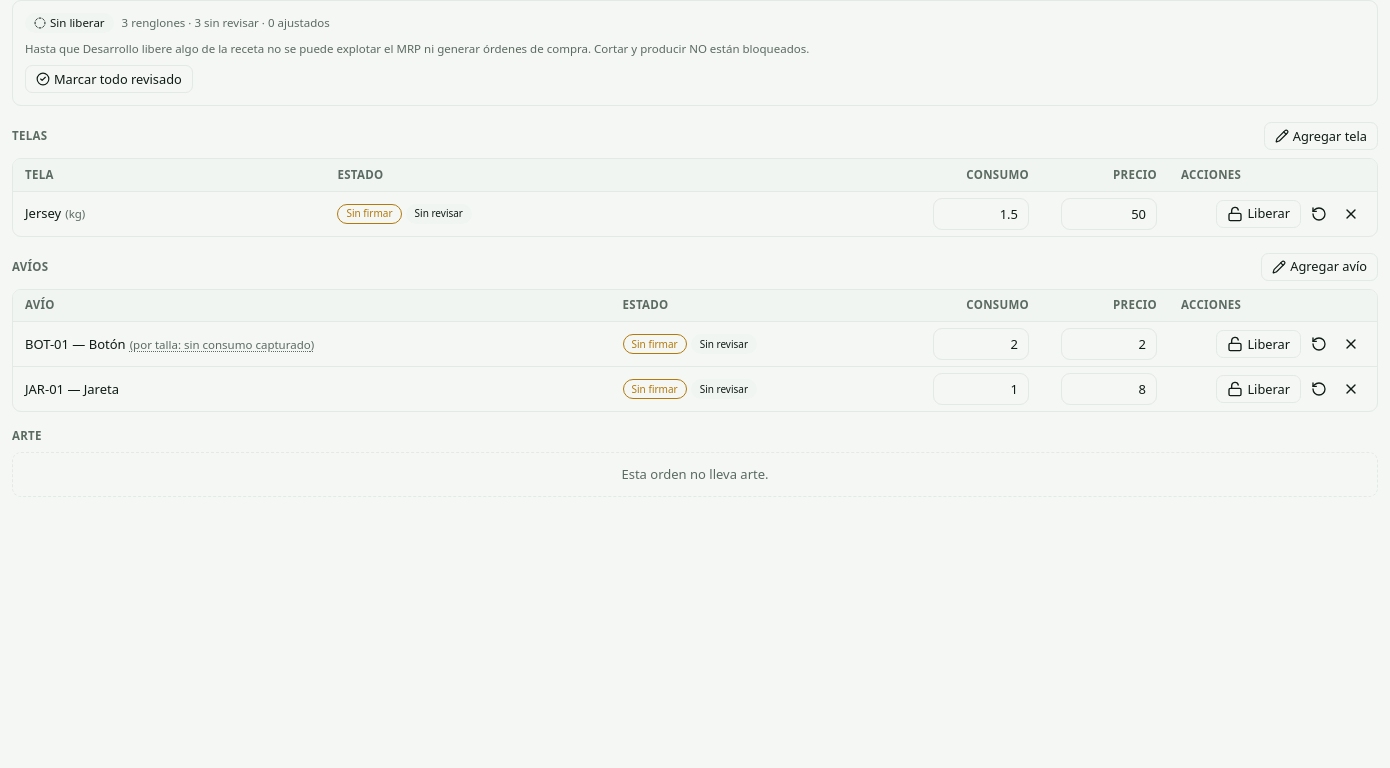
Medidas por talla en la OP (§Post-F9.43(c)) › sin tallas en la matriz de la orden lo DICE en vez de fingir una matriz
Click the button with test id "toggle-medidas-receta-avio-2".
click(222, 345)  # box [130,337,314,353]
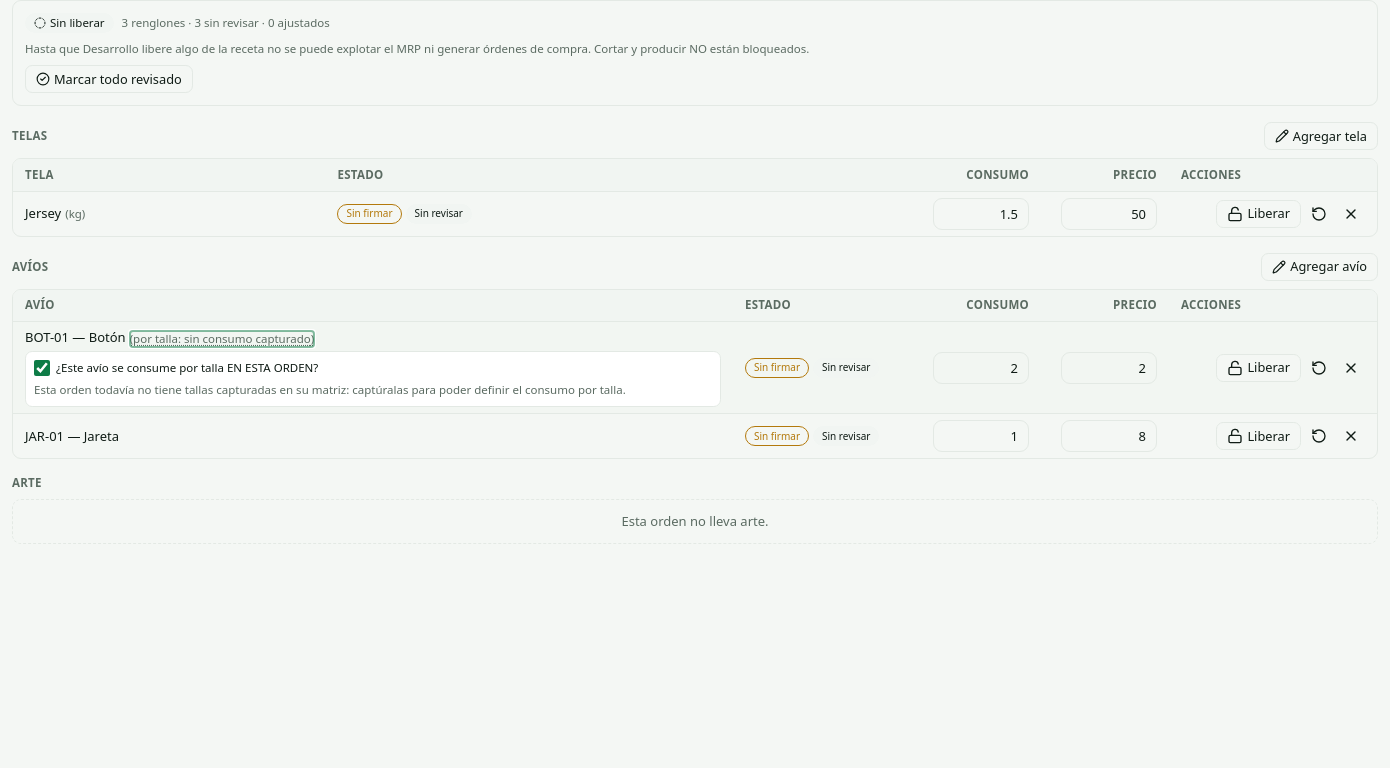
expect the text with test id "sin-tallas-2" is shown: met, box [34,382,712,398]
